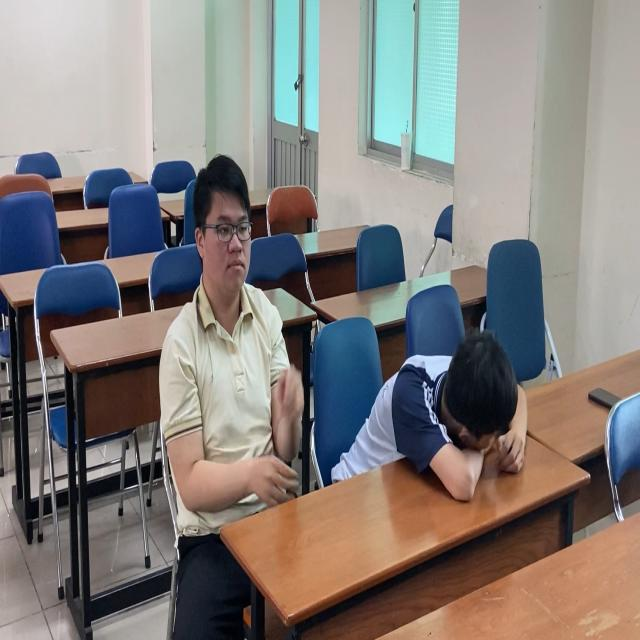sleep: (339, 321, 534, 496)
